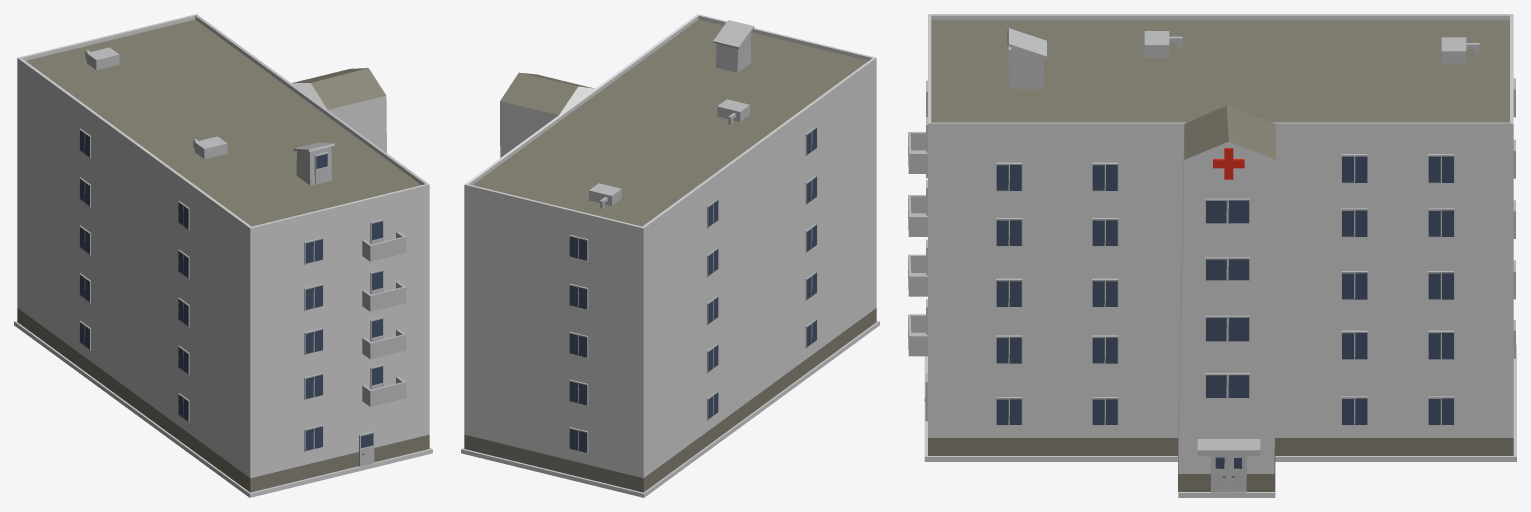
File: hospital_01.glb
The picture shows the model from 3 angles, left to right: view 1: azimuth 30°, elevation 25°; view 2: azimuth 150°, elevation 25°; view 3: azimuth 270°, elevation 25°; orthographic projection. The views are drawn at different scales.
Parts seen in each view (by area): view 1: Cube.018; view 2: Cube.018; view 3: Cube.018.
Part boxes in pixels (<box>): Cube.018: <box>14,14,432,497</box>; Cube.018: <box>461,14,879,497</box>; Cube.018: <box>908,14,1516,497</box>.
Bounding box in the file's own units: 2.87 × 3.19 × 4.65.
